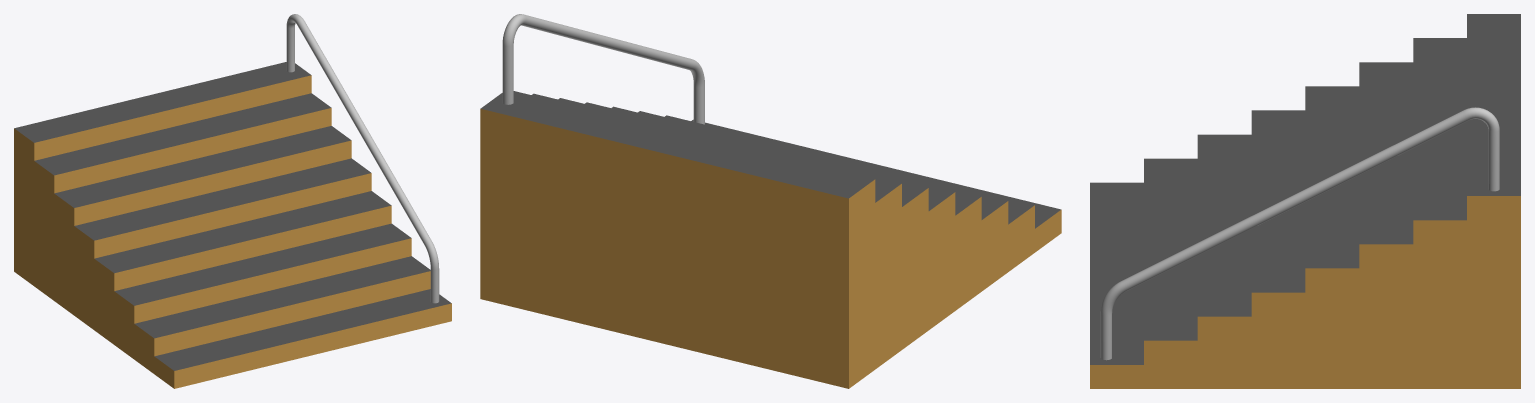
The model's file is Skate_Stairs_Handrail_Right_01.FBX.
3 renders of one model, left to right at view 1: azimuth 30°, elevation 25°; view 2: azimuth 150°, elevation 25°; view 3: azimuth 270°, elevation 25°, orthographic. The views are drawn at different scales.
Visible parts, largest first — view 1: Skate_Stairs_Handrail_Right_01; view 2: Skate_Stairs_Handrail_Right_01; view 3: Skate_Stairs_Handrail_Right_01.
Part boxes in pixels (x1,y1,x2,y2): Skate_Stairs_Handrail_Right_01: (14,14,451,388); Skate_Stairs_Handrail_Right_01: (480,14,1061,388); Skate_Stairs_Handrail_Right_01: (1090,14,1520,388).
Size of the model in its own units: 3 by 2.1 by 3.
